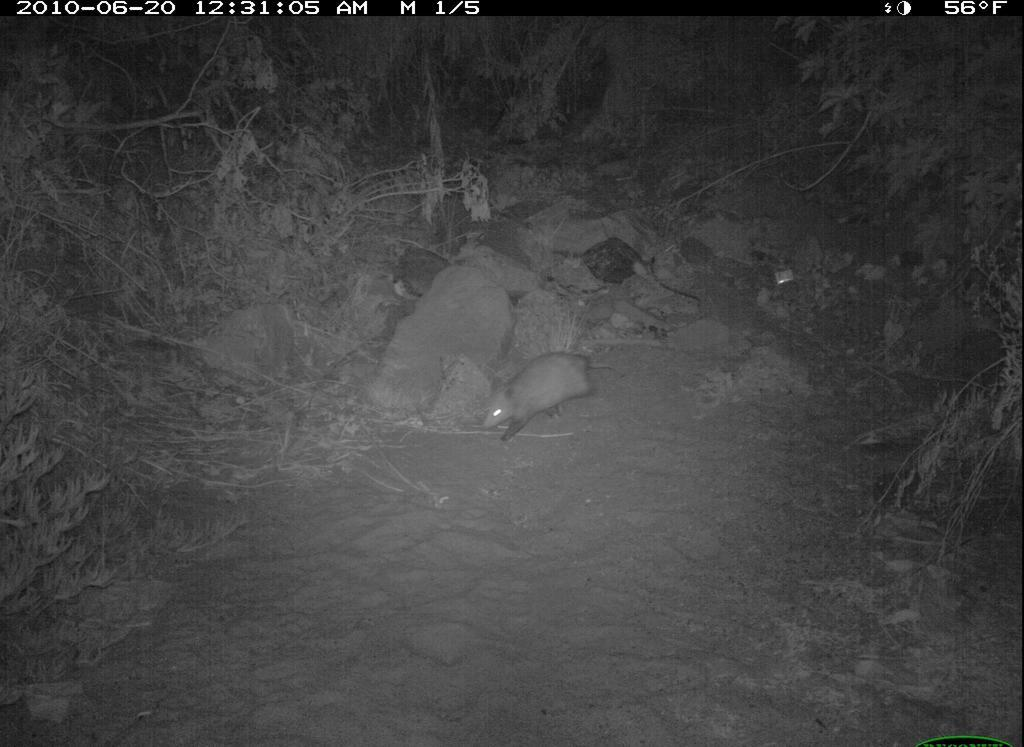opossum: (481, 350, 601, 446)
